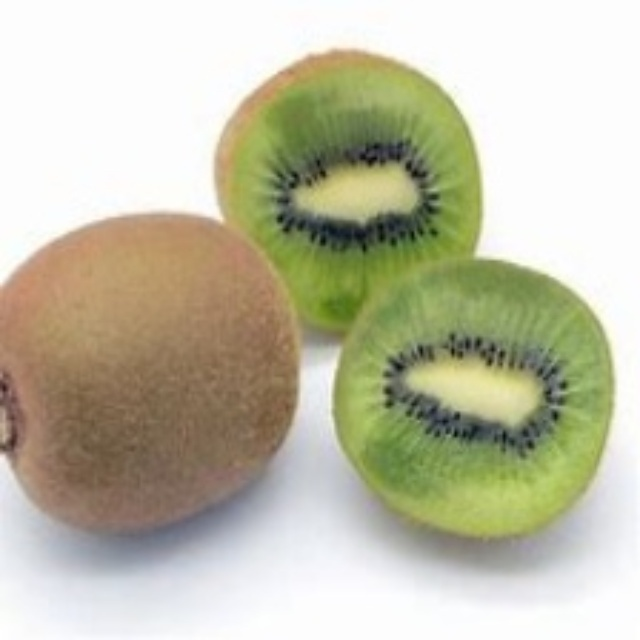kiwi: (5, 213, 296, 539), (327, 256, 625, 543), (209, 50, 489, 327)
